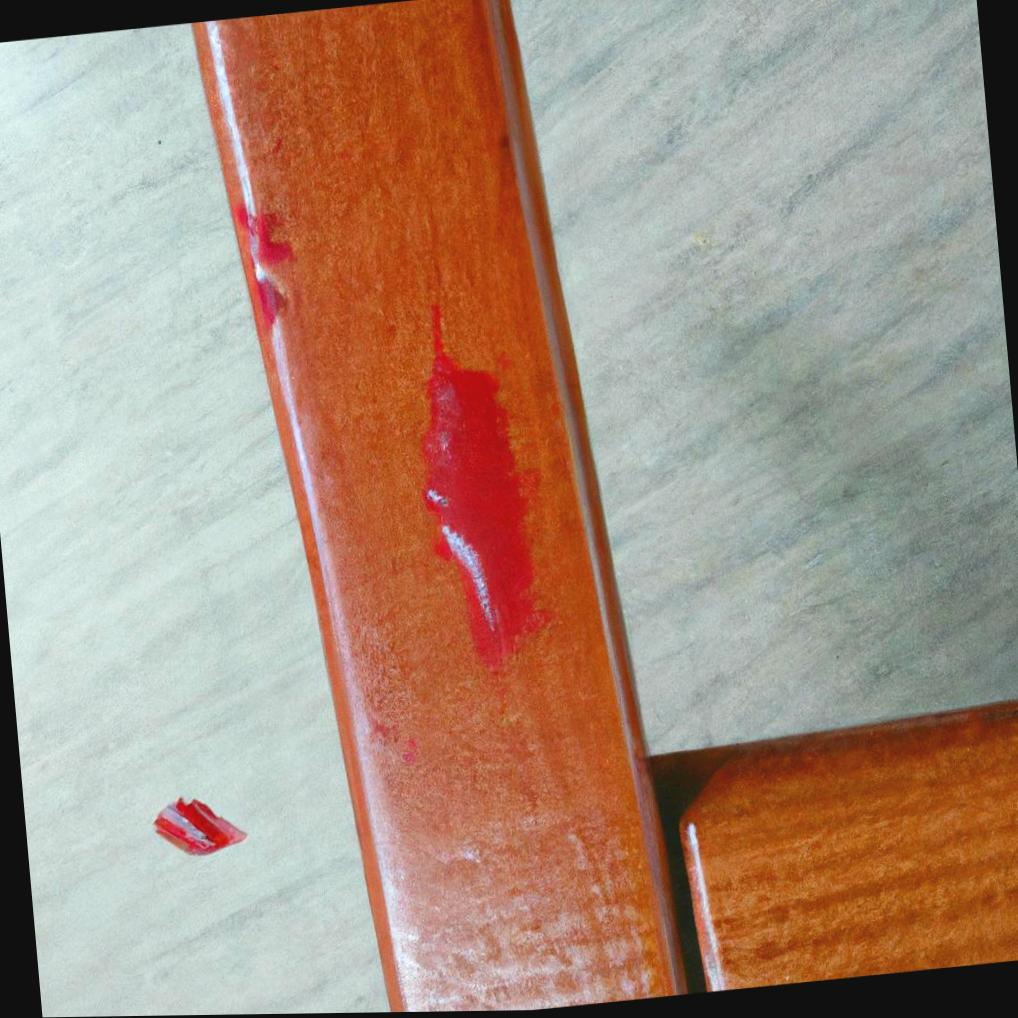Fire: (420, 305, 555, 679), (236, 205, 296, 268), (254, 279, 287, 332)
